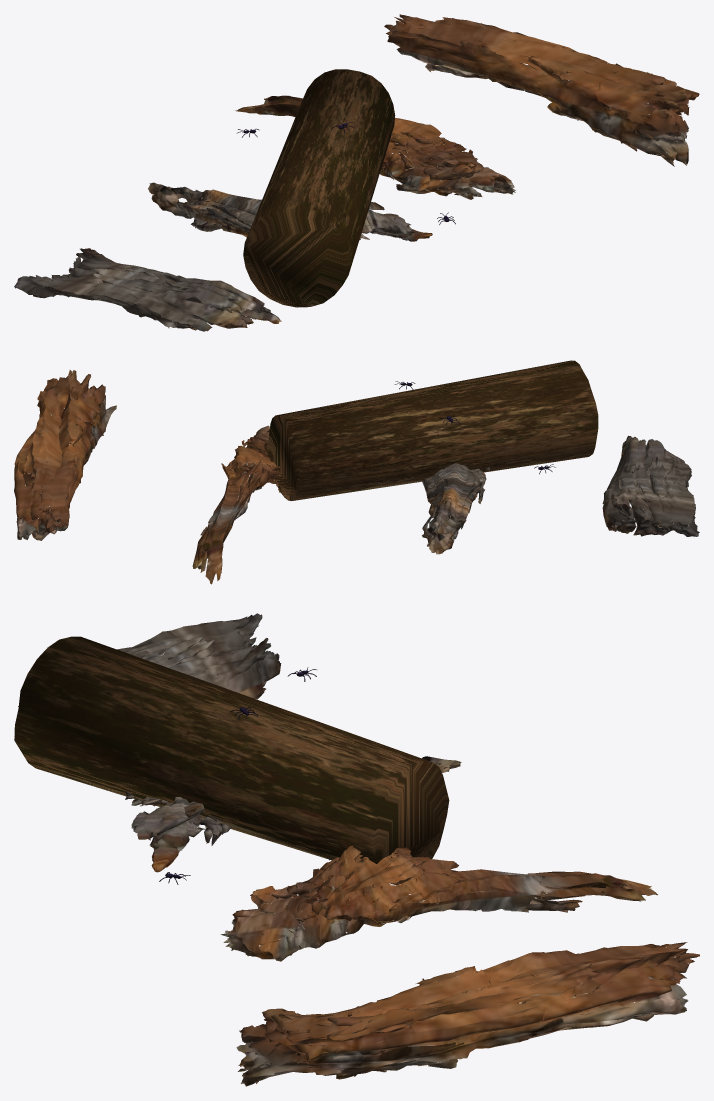
File: insects.glb
3 views of the same model, one above another, from view 1: azimuth 30°, elevation 25°; view 2: azimuth 150°, elevation 25°; view 3: azimuth 270°, elevation 25° (orthographic). The views are drawn at different scales.
Visible parts, largest first — view 1: bark_debris, log; view 2: log, bark_debris; view 3: bark_debris, log.
Part boxes in pixels (bbox=[...]): bark_debris: bbox=[14, 14, 699, 331]; log: bbox=[243, 69, 395, 307]; log: bbox=[267, 360, 598, 500]; bark_debris: bbox=[14, 370, 699, 584]; bark_debris: bbox=[14, 613, 699, 1086]; log: bbox=[14, 636, 449, 867].
Size of the model in its own units: 1.27 by 0.218 by 0.8378.
Materials: 3 (2 with a texture image).
